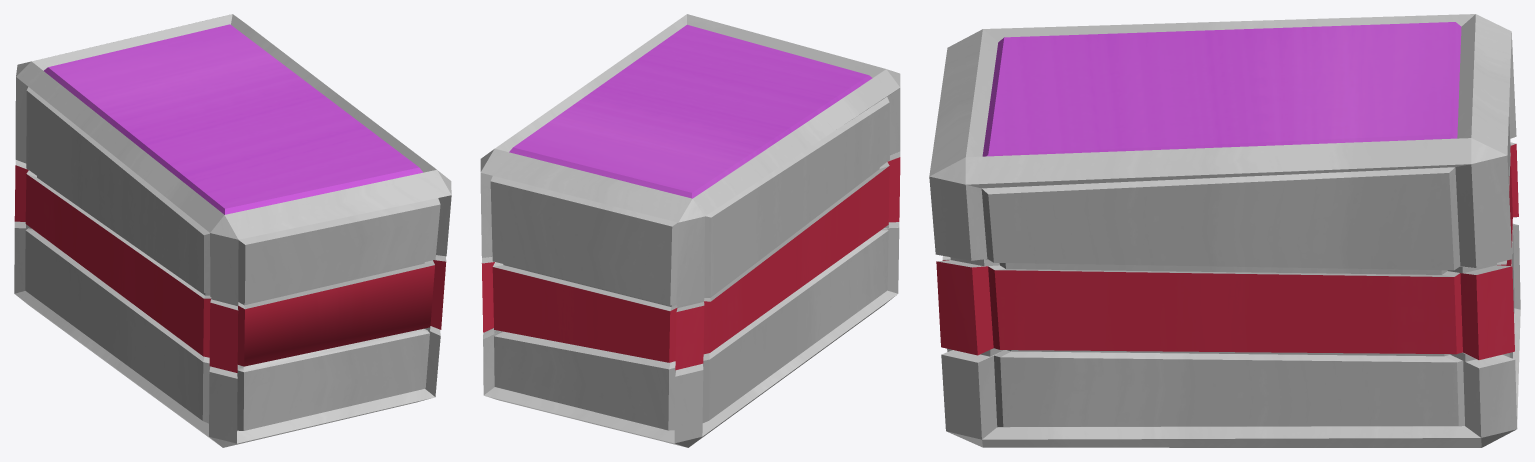
3 renders of one model, left to right at view 1: azimuth 30°, elevation 25°; view 2: azimuth 150°, elevation 25°; view 3: azimuth 270°, elevation 25°, orthographic. The views are drawn at different scales.
Parts seen in each view (by area): view 1: Box2; view 2: Box2; view 3: Box2.
Boxes of the visible parts, left/top/right/bottom form: Box2: left=14, top=14, right=451, bottom=447; Box2: left=480, top=14, right=900, bottom=447; Box2: left=929, top=14, right=1520, bottom=447.
Bounding box in the file's own units: 80 × 80.49 × 137.
